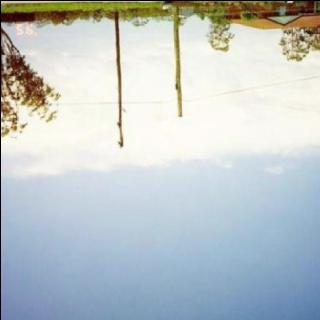Cirrostratus: (0, 9, 320, 320)
